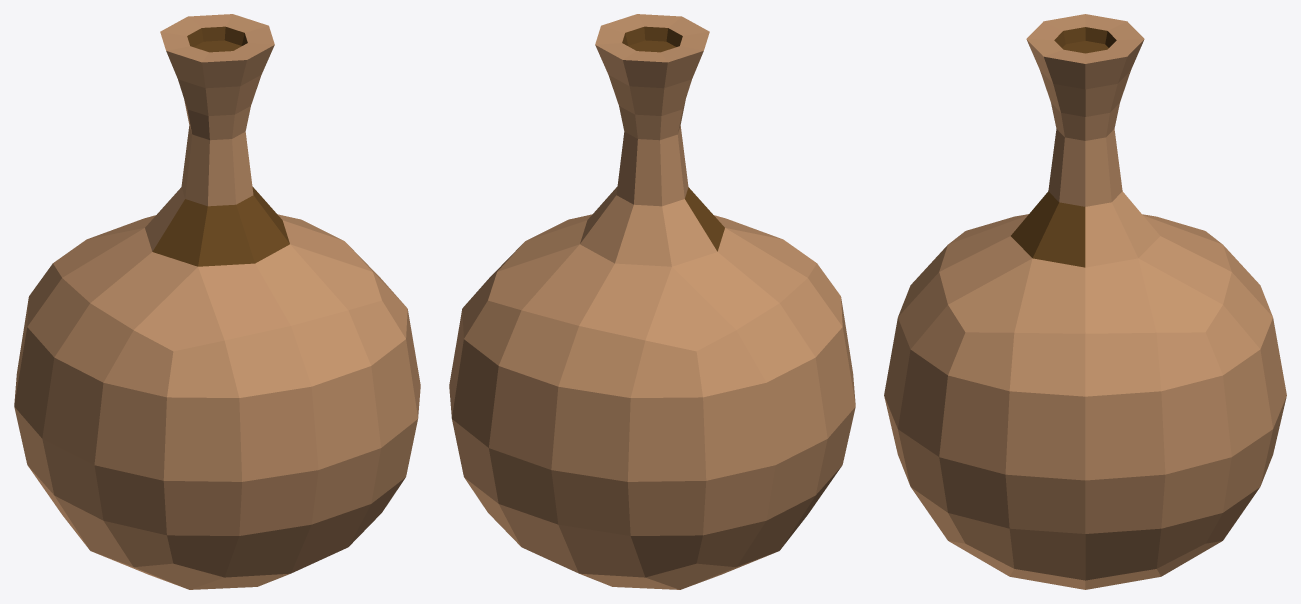
The model's file is thief_man_bag.fbx.
3 views of the same model, side by side, from view 1: azimuth 30°, elevation 25°; view 2: azimuth 150°, elevation 25°; view 3: azimuth 270°, elevation 25° (orthographic).
Visible parts, largest first — view 1: thief_bag; view 2: thief_bag; view 3: thief_bag.
Part boxes in pixels (left/top/right/bottom): thief_bag: left=14, top=14, right=420, bottom=589; thief_bag: left=449, top=14, right=855, bottom=589; thief_bag: left=884, top=14, right=1286, bottom=589.
Bounding box in the file's own units: 168 × 244 × 168.
Materials: 1 (1 with a texture image).
